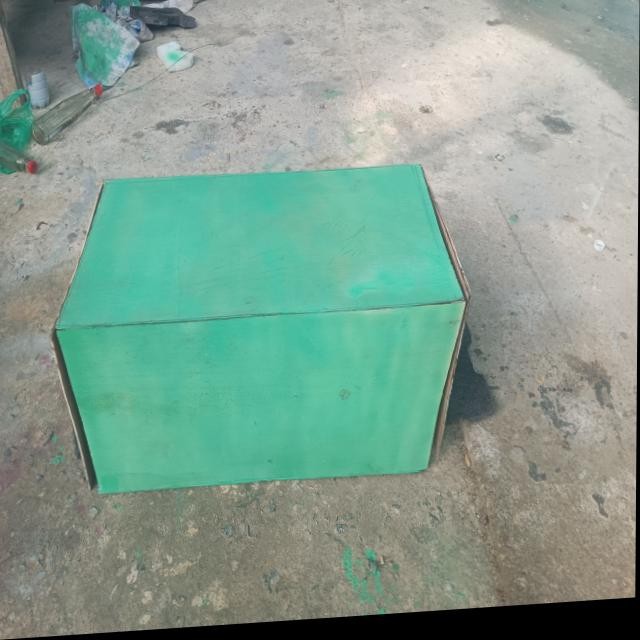green_box: (32, 132, 520, 546)
